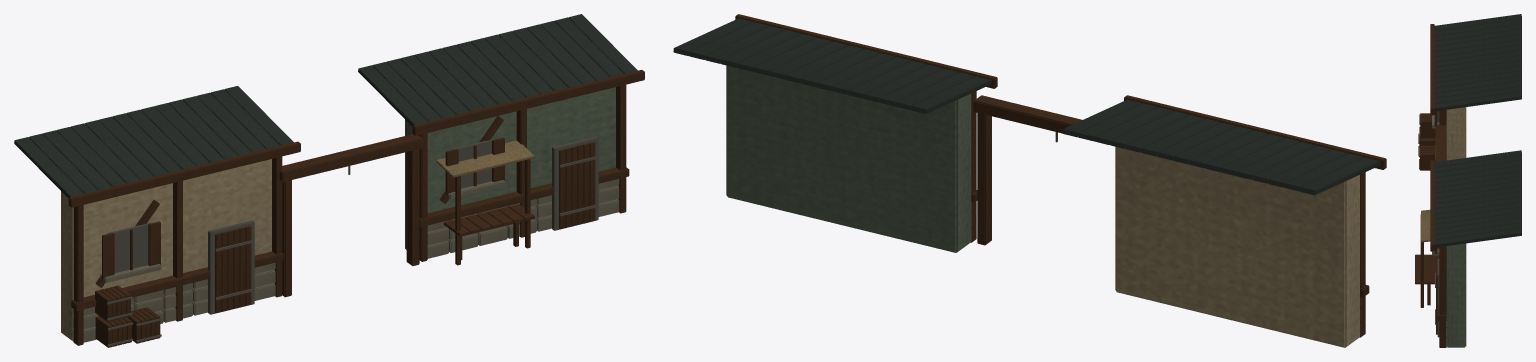
File: settlement-v1.glb
The picture shows the model from 3 angles, left to right: view 1: azimuth 30°, elevation 25°; view 2: azimuth 150°, elevation 25°; view 3: azimuth 270°, elevation 25°; orthographic projection. The views are drawn at different scales.
Visible parts, largest first — view 1: Overlapping roof board.016, Overlapping roof board, Plaster frontage, Timber upright, Plaster frontage.001, Timber upright.003, Alley post, Stone footing.021, Stone footing, Door recess, Eave fascia, Eave fascia.001 (+4 smaller); view 2: Plaster frontage, Plaster frontage.001, Overlapping roof board.016, Overlapping roof board, Alley post, Eave fascia.001, Eave fascia, Timber upright, Timber upright.003; view 3: Overlapping roof board.016, Overlapping roof board, Plaster frontage.001, Plaster frontage, Timber upright.003, Stall post, Crate plank, Eave fascia.001, Eave fascia, Alley post, Canvas canopy, Door recess.001 (+1 smaller).
Boxes of the visible parts, bbox=[...] form: Overlapping roof board.016: bbox=[358, 14, 637, 126]; Overlapping roof board: bbox=[14, 86, 293, 197]; Plaster frontage: bbox=[61, 159, 271, 341]; Timber upright: bbox=[71, 156, 283, 345]; Plaster frontage.001: bbox=[405, 87, 615, 249]; Timber upright.003: bbox=[419, 84, 629, 261]; Alley post: bbox=[279, 134, 422, 297]; Stone footing.021: bbox=[427, 179, 619, 258]; Stone footing: bbox=[73, 262, 275, 342]; Door recess: bbox=[107, 220, 254, 314]; Eave fascia: bbox=[68, 141, 300, 207]; Eave fascia.001: bbox=[412, 70, 644, 135]; Plaster frontage: bbox=[1115, 146, 1359, 347]; Plaster frontage.001: bbox=[726, 65, 971, 252]; Overlapping roof board.016: bbox=[673, 18, 991, 113]; Overlapping roof board: bbox=[1062, 99, 1380, 195]; Alley post: bbox=[973, 95, 1081, 245]; Eave fascia.001: bbox=[735, 14, 997, 88]; Eave fascia: bbox=[1124, 95, 1386, 169]; Timber upright: bbox=[1359, 172, 1369, 337]; Timber upright.003: bbox=[971, 91, 977, 242]; Overlapping roof board.016: bbox=[1434, 150, 1521, 247]; Overlapping roof board: bbox=[1434, 14, 1521, 111]; Plaster frontage.001: bbox=[1446, 243, 1466, 347]; Plaster frontage: bbox=[1446, 107, 1466, 160]; Timber upright.003: bbox=[1434, 246, 1446, 347]; Stall post: bbox=[1415, 214, 1437, 307]; Crate plank: bbox=[1419, 113, 1435, 170]; Eave fascia.001: bbox=[1430, 160, 1434, 251]; Eave fascia: bbox=[1430, 24, 1434, 115]; Alley post: bbox=[1435, 124, 1446, 161]; Canvas canopy: bbox=[1421, 209, 1430, 242]; Door recess.001: bbox=[1435, 247, 1439, 337].
Size of what is drawn, in the model's own units: 14.85 by 4.18 by 3.16.
Materials: 7 (6 with a texture image).
